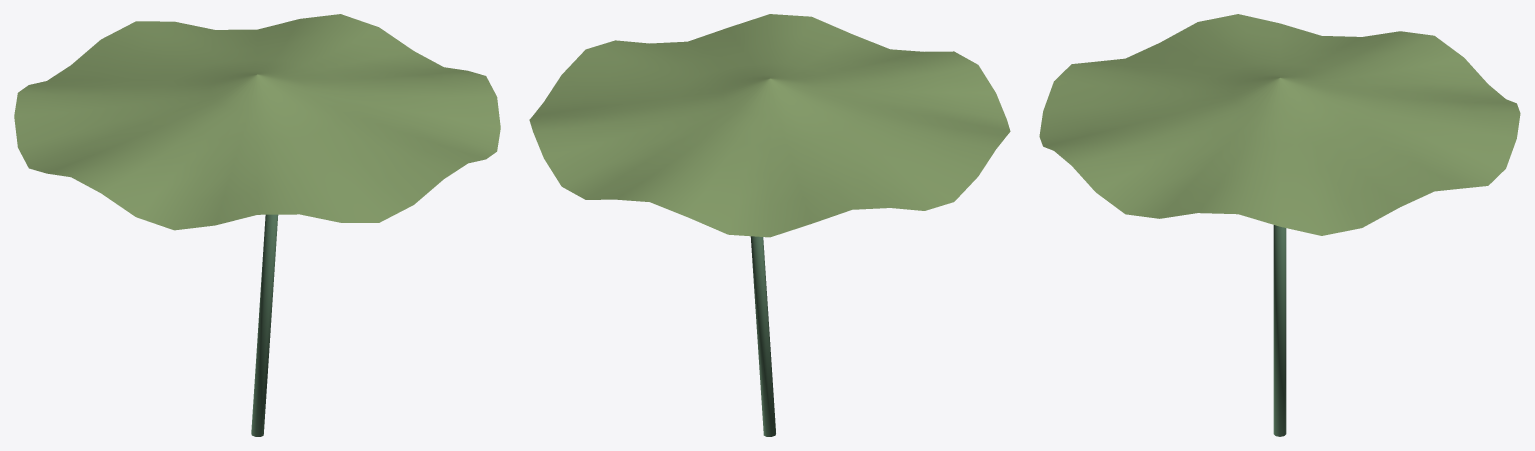
The model's file is lotus.glb.
3 views of the same model, side by side, from view 1: azimuth 30°, elevation 25°; view 2: azimuth 150°, elevation 25°; view 3: azimuth 270°, elevation 25° (orthographic).
Parts seen in each view (by area): view 1: Lotus_Leaf, Lotus_LeafDark; view 2: Lotus_Leaf, Lotus_LeafDark; view 3: Lotus_Leaf, Lotus_LeafDark.
Part boxes in pixels (left/top/right/bottom): Lotus_Leaf: left=14, top=14, right=500, bottom=230; Lotus_LeafDark: left=251, top=214, right=278, bottom=436; Lotus_Leaf: left=529, top=14, right=1010, bottom=237; Lotus_LeafDark: left=750, top=236, right=775, bottom=436; Lotus_Leaf: left=1039, top=14, right=1520, bottom=235; Lotus_LeafDark: left=1273, top=225, right=1286, bottom=436.
Bounding box in the file's own units: 0.6 × 0.4906 × 0.6.
